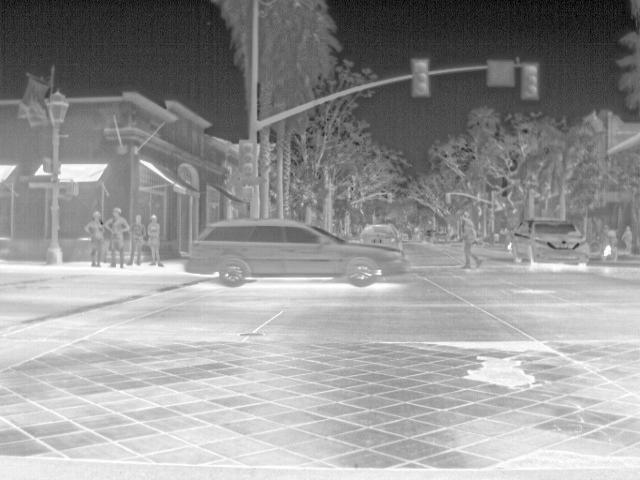car: (182, 219, 404, 287), (507, 218, 592, 266), (360, 222, 404, 253)
person: (101, 208, 127, 267), (460, 211, 482, 270), (145, 214, 167, 265), (126, 212, 145, 264), (89, 209, 106, 266), (620, 223, 636, 256)
